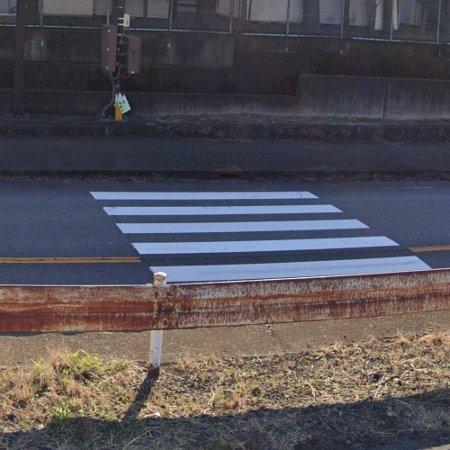crosswalks: (90, 189, 435, 288)
